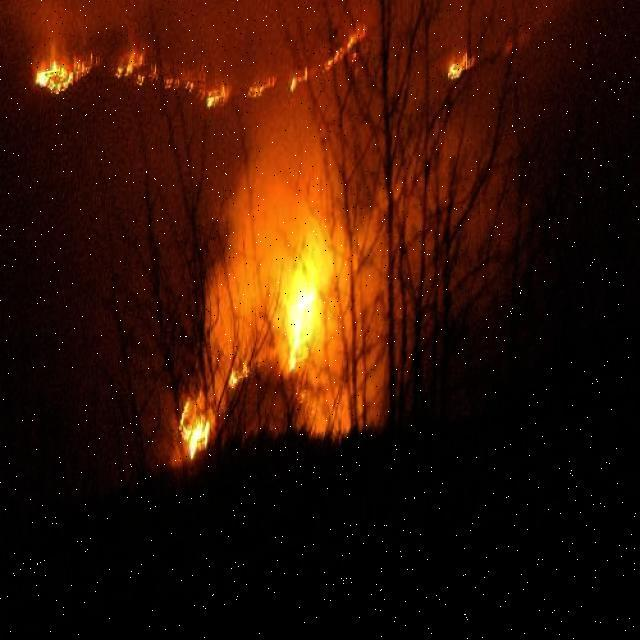Fire: (34, 0, 376, 138), (225, 238, 334, 401), (172, 384, 216, 476), (446, 58, 472, 104)
